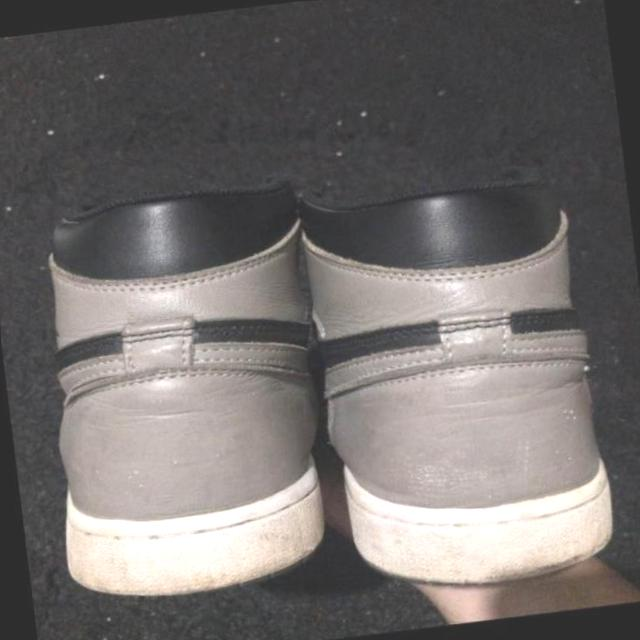nike_fake_jordan: (18, 178, 358, 611), (290, 164, 622, 606)
